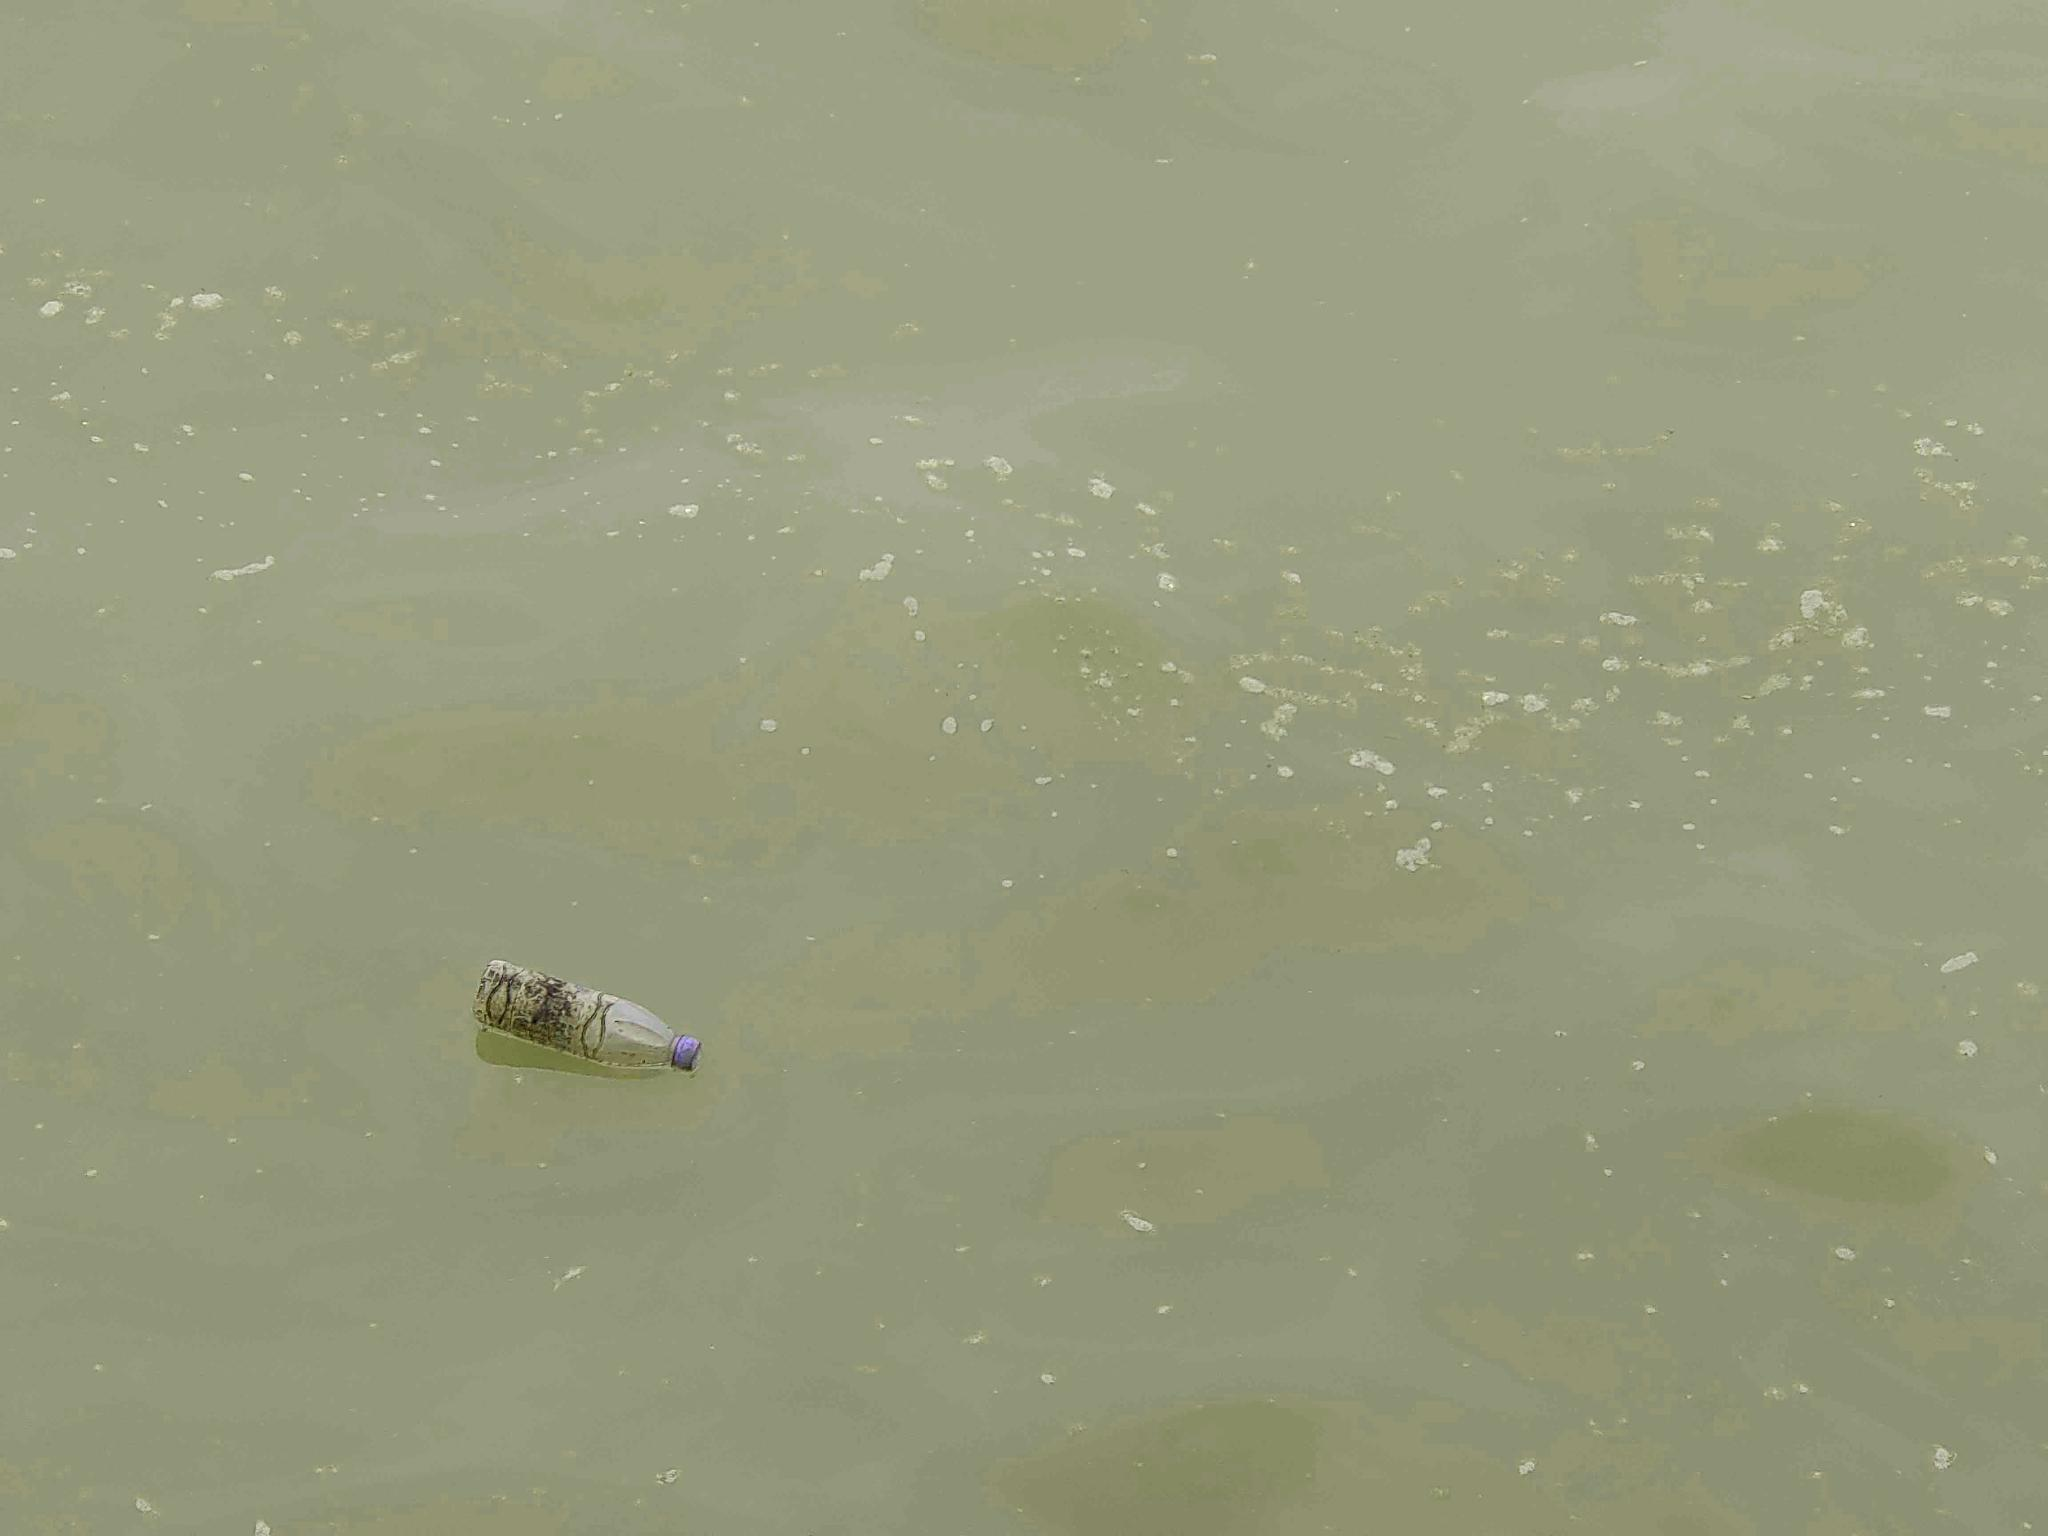Plastic: (469, 960, 701, 1089)
